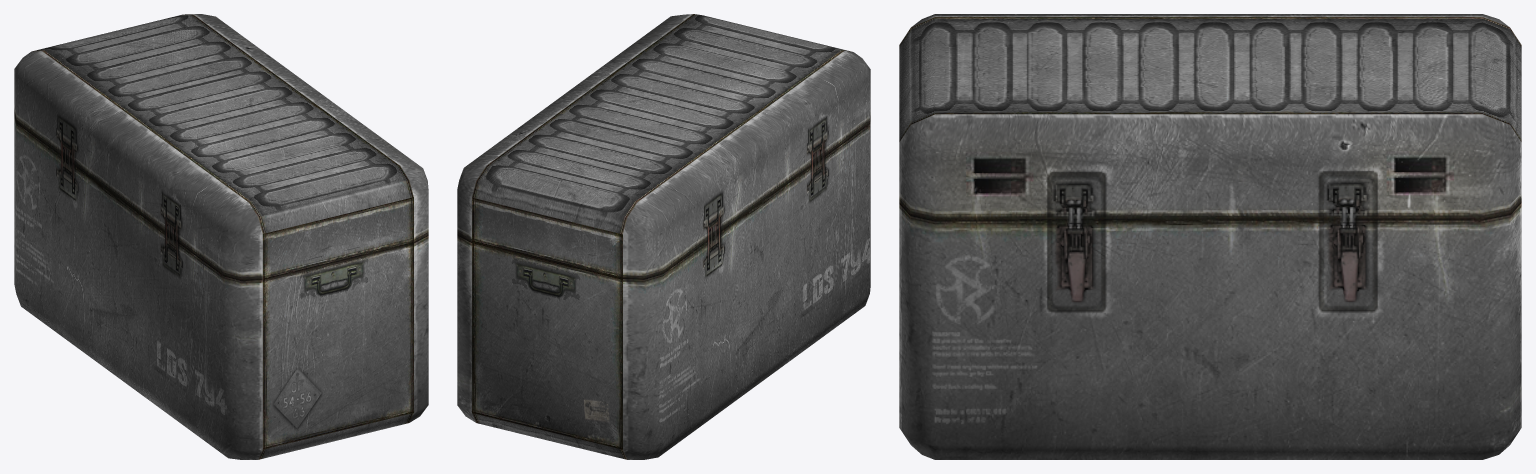
Rendered from Model_Crate_02.fbx.
The picture shows the model from 3 angles, left to right: view 1: azimuth 30°, elevation 25°; view 2: azimuth 150°, elevation 25°; view 3: azimuth 270°, elevation 25°; orthographic projection. The views are drawn at different scales.
Parts seen in each view (by area): view 1: Crate_02_LOD0; view 2: Crate_02_LOD0; view 3: Crate_02_LOD0.
Part boxes in pixels (x1,y1,x2,y2): Crate_02_LOD0: (14, 14, 428, 459); Crate_02_LOD0: (457, 14, 870, 459); Crate_02_LOD0: (899, 14, 1521, 459).
Size of what is drawn, in the model's own units: 100 by 120 by 200.
